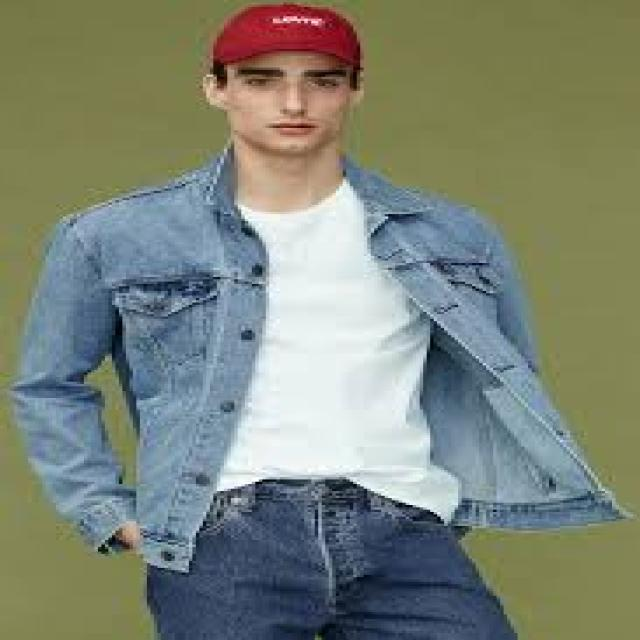3_gorra: (208, 0, 365, 65)
